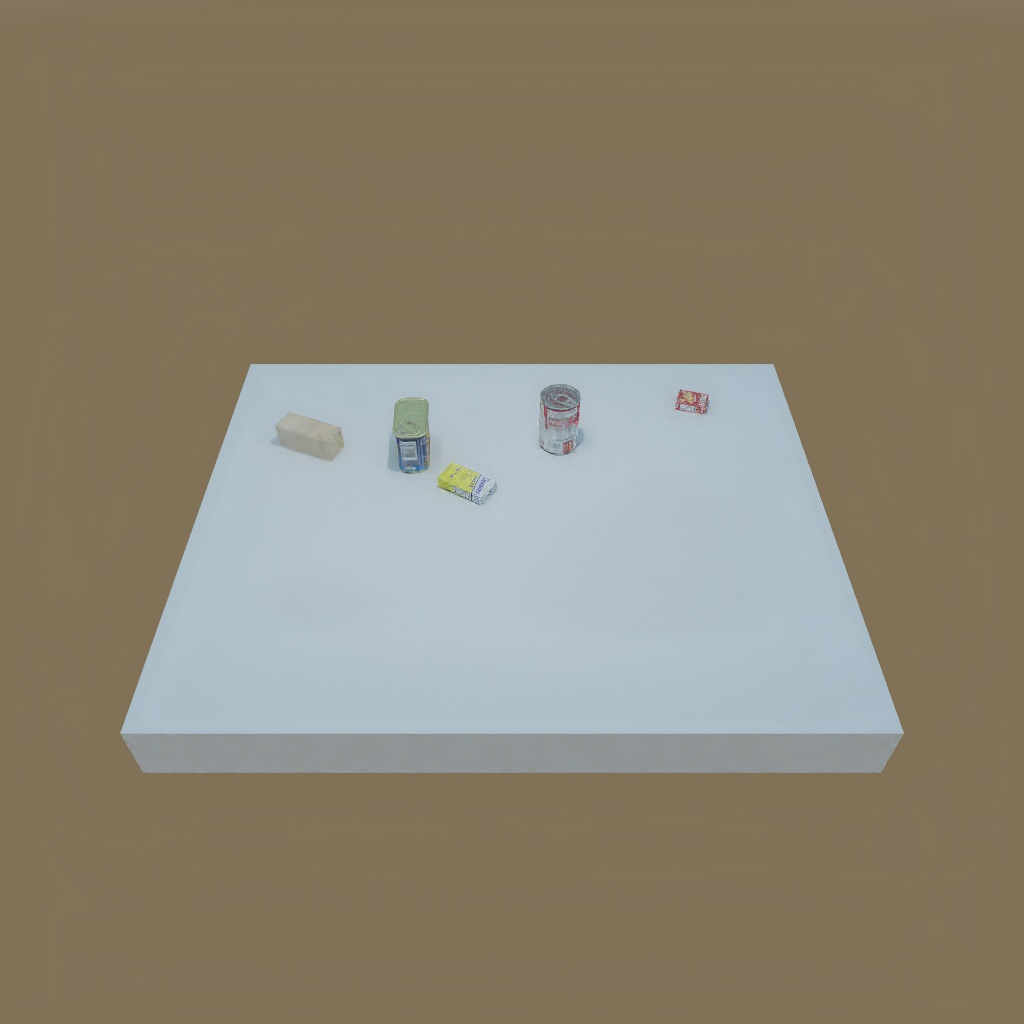potted_meat_can: (388, 396, 436, 476)
tomato_soup_can: (535, 381, 587, 458)
wood_block: (274, 413, 347, 464)
